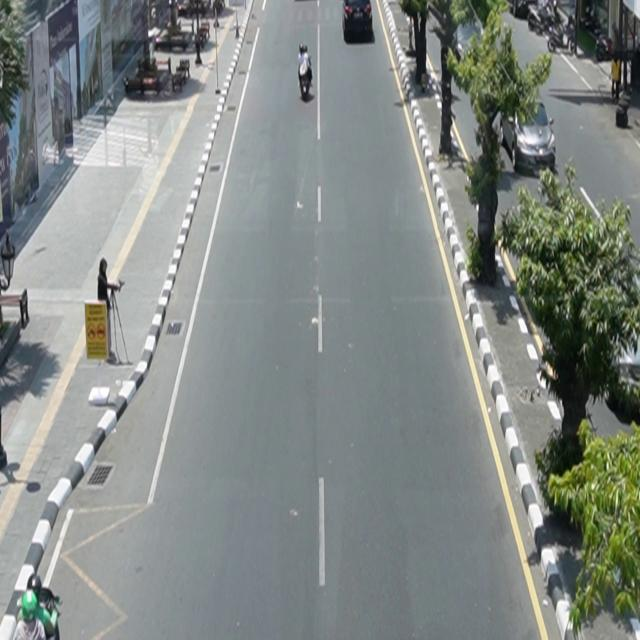car: (502, 100, 557, 177), (342, 1, 373, 41)
